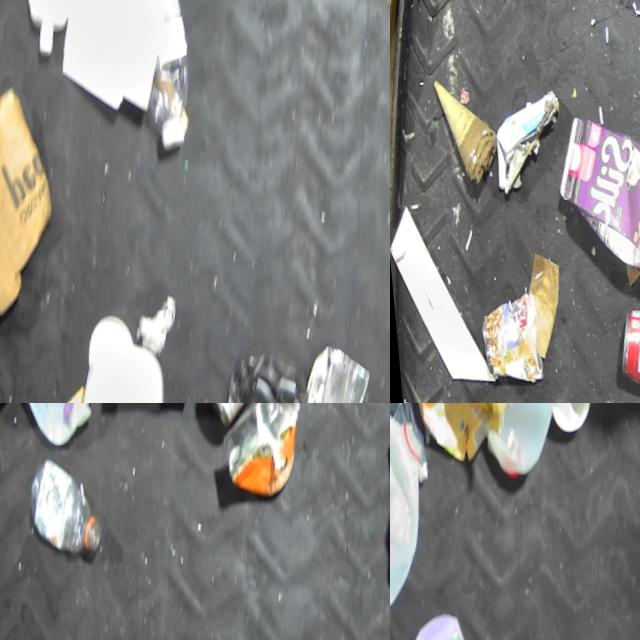can: (203, 403, 310, 501), (273, 330, 369, 403), (597, 286, 640, 403), (187, 403, 280, 433)
milk_jug: (390, 403, 436, 640), (455, 403, 571, 478), (0, 403, 113, 450)
plastic_bottle: (14, 454, 108, 558)
